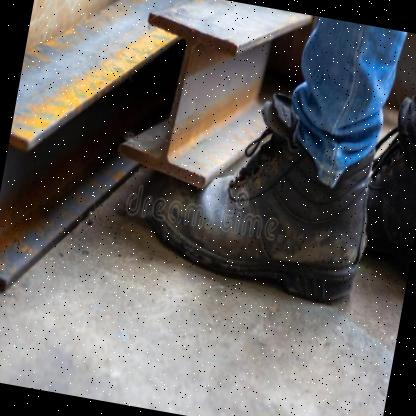bota: (138, 78, 390, 314), (353, 90, 416, 284)
